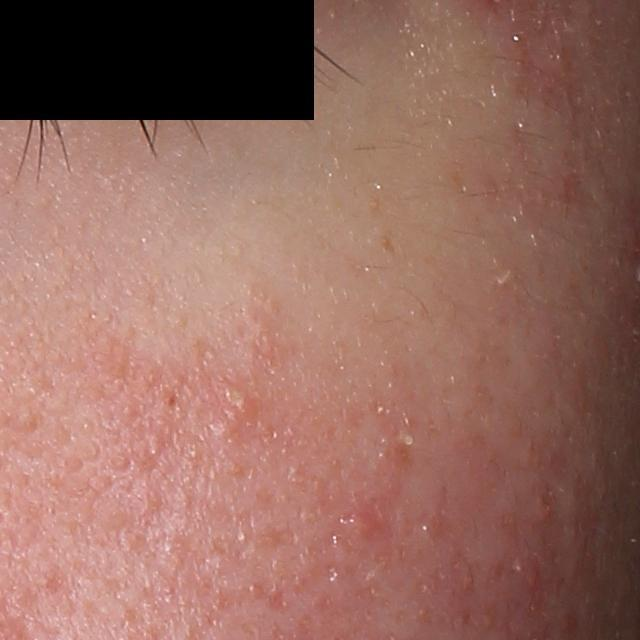papule: (222, 387, 250, 420)
